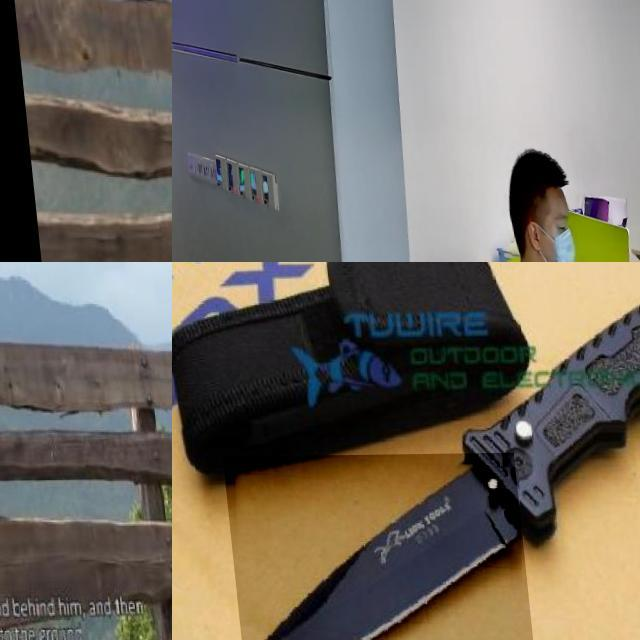-: (214, 453, 524, 640), (0, 544, 49, 611)
